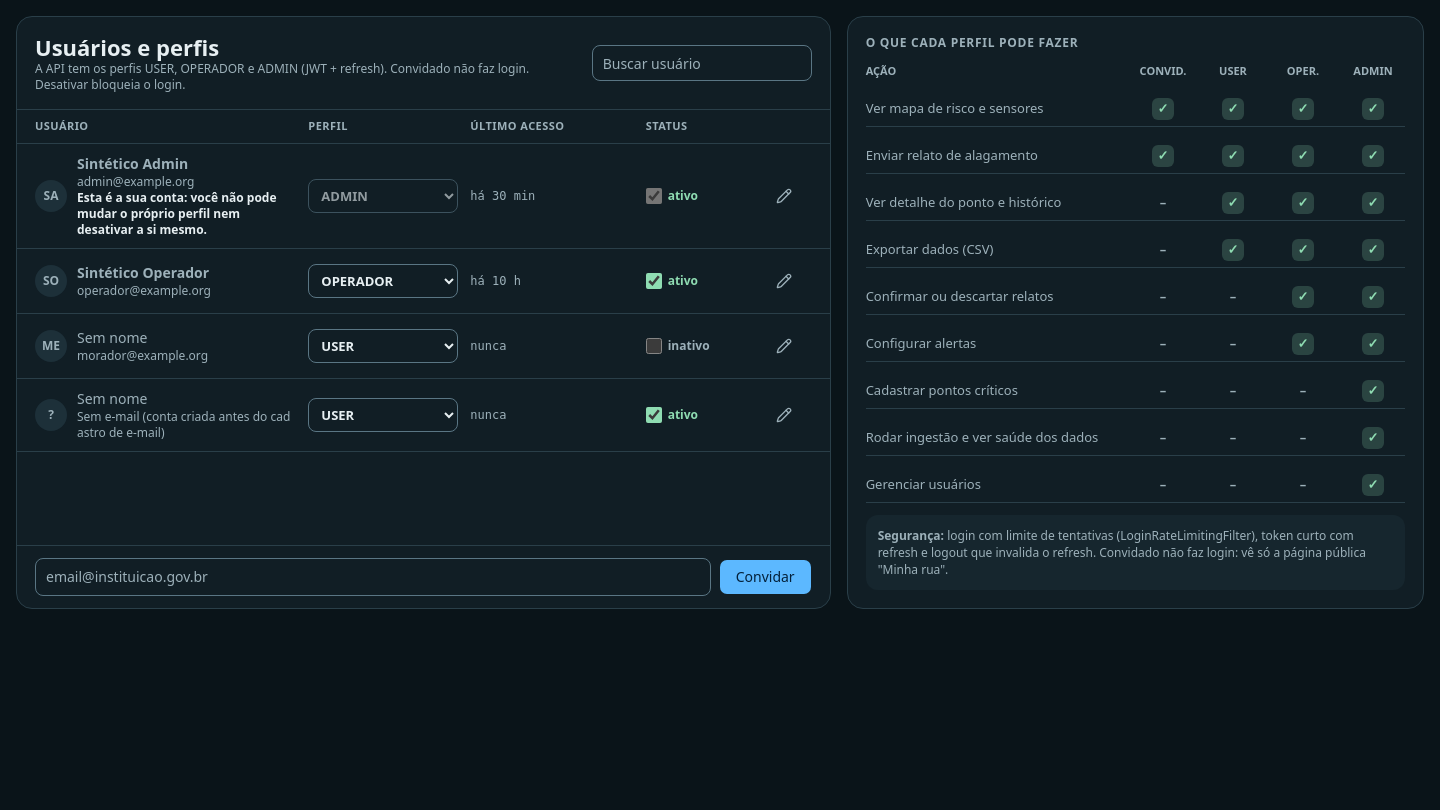
Test: AdminUsersPage › editar: só o que mudou; apagar o e-mail manda string vazia; e-mail inválido bloqueia
Click the button named "Editar Sintético Operador": (784, 280) [768, 264, 800, 296]
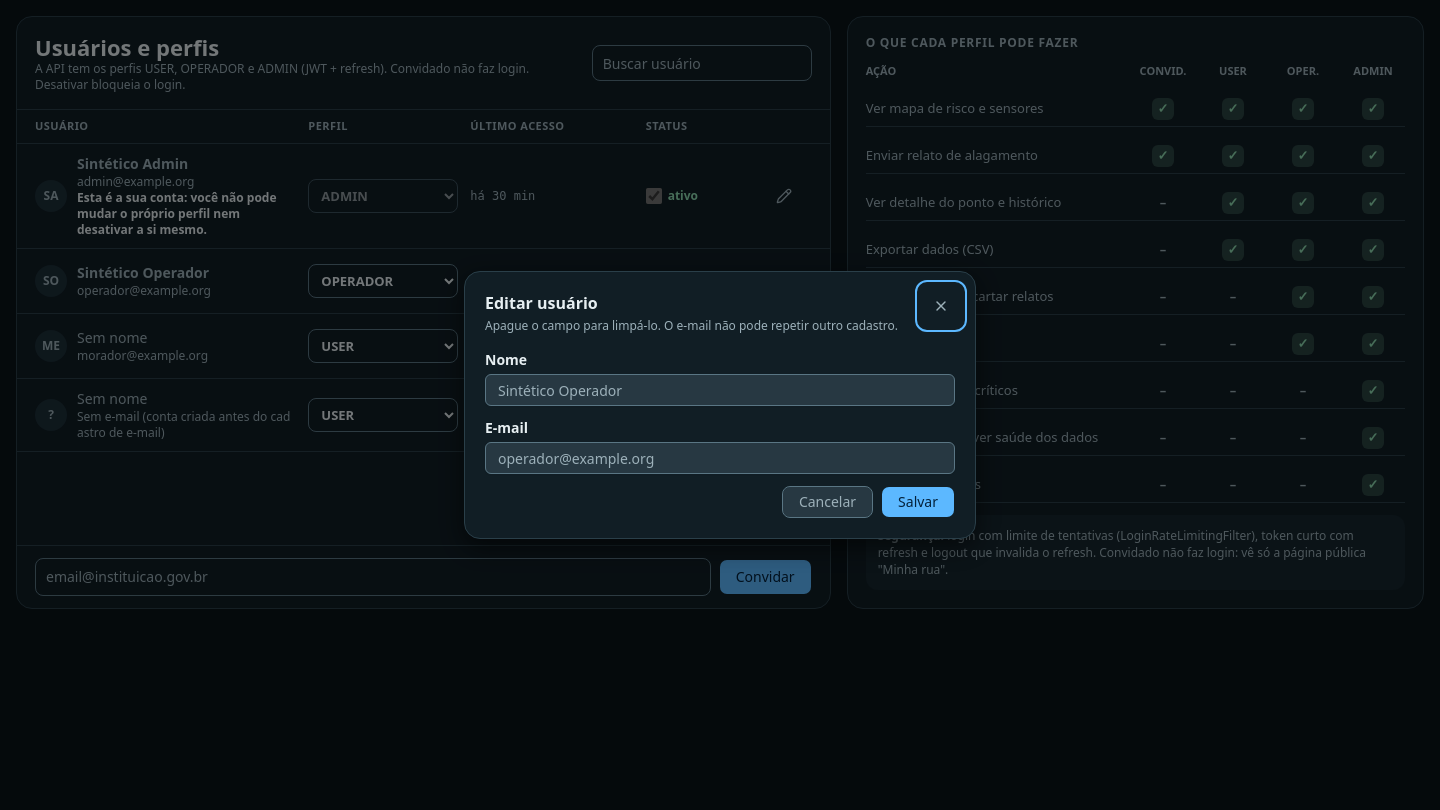
Click the button "Salvar": (918, 502) [881, 486, 955, 518]
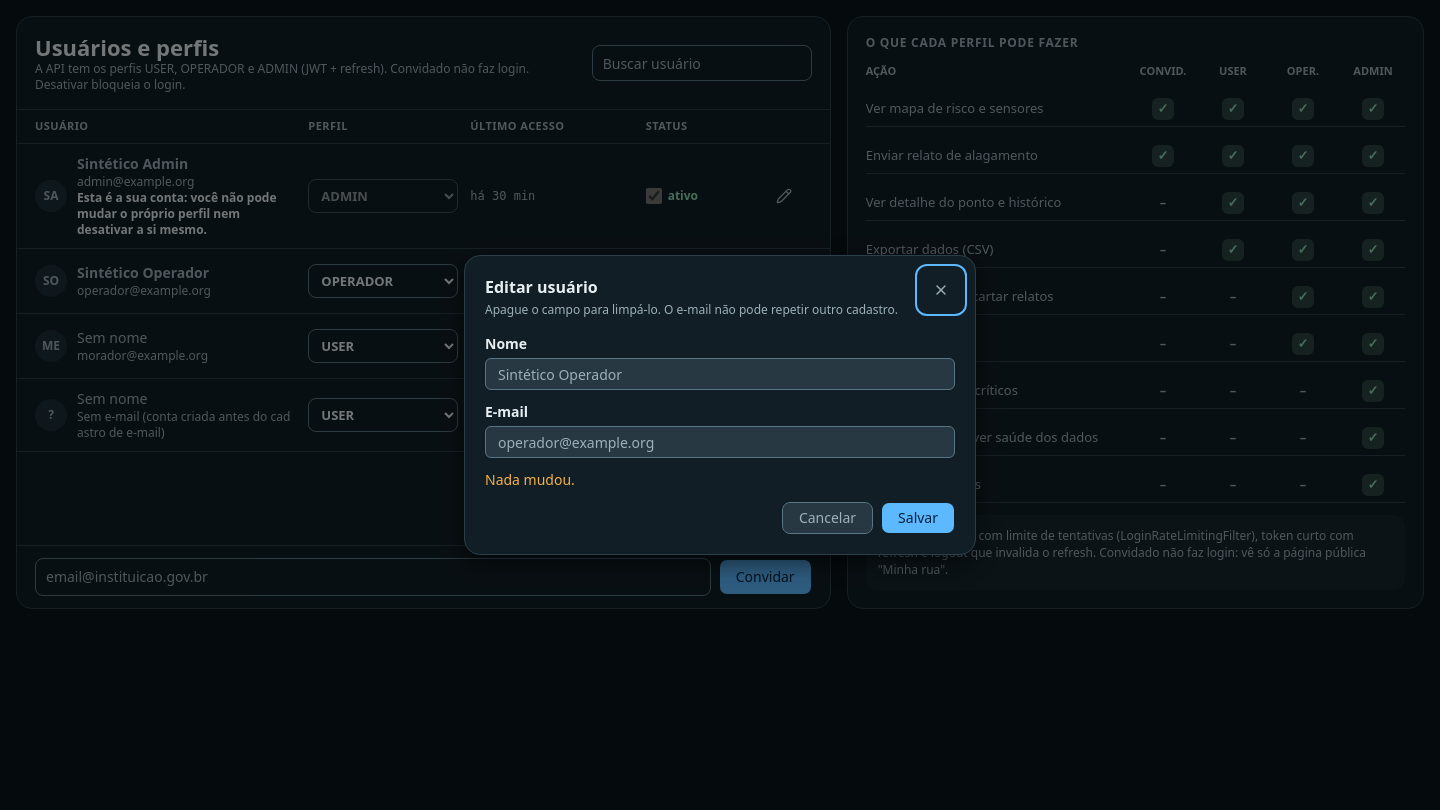
Expected: the text "Nada mudou." is shown, [485, 470, 575, 489]
Replace the text in the field labelled "E-mail" with "sem-arroba": (720, 442) [485, 426, 955, 458]
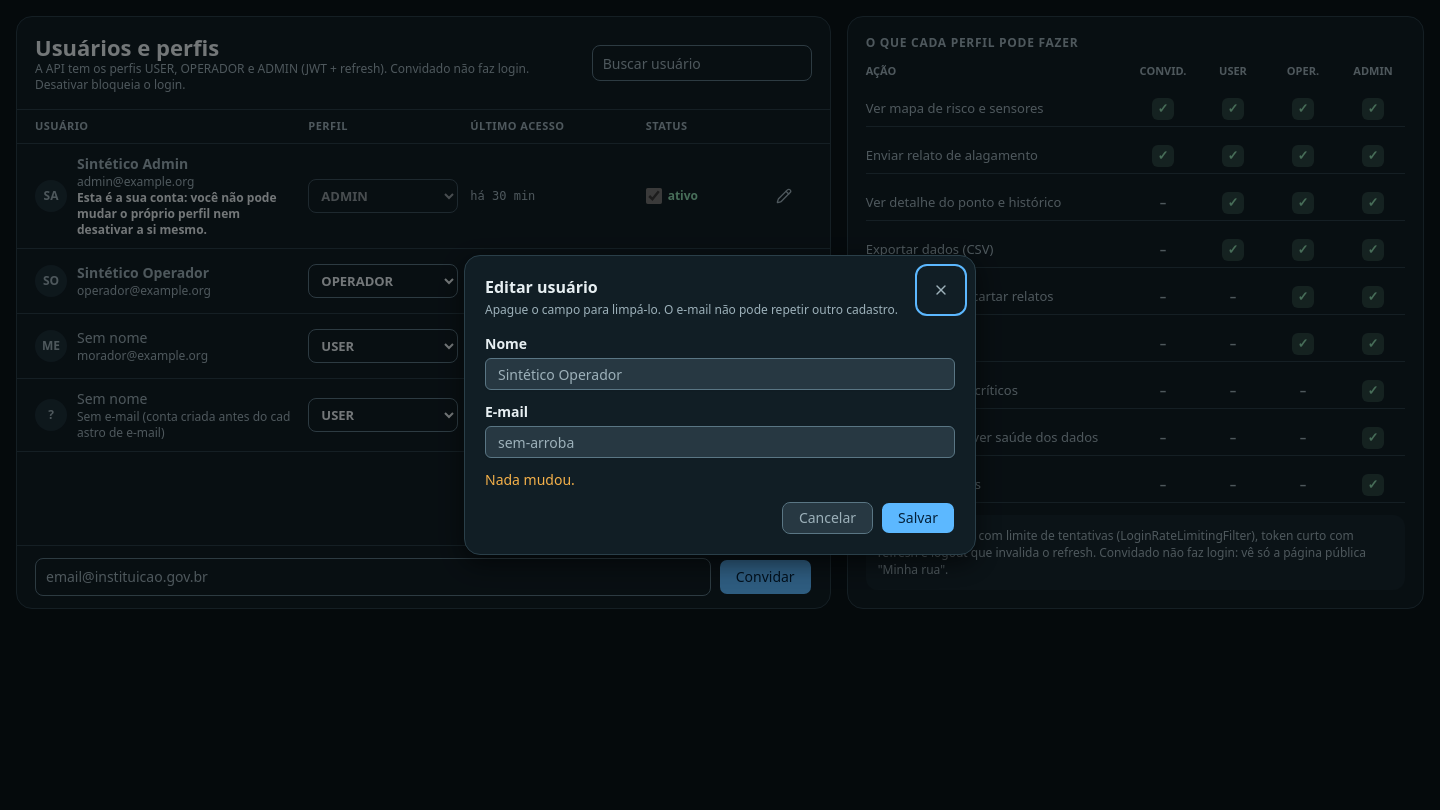
Click the button "Salvar": (918, 518) [881, 502, 955, 534]
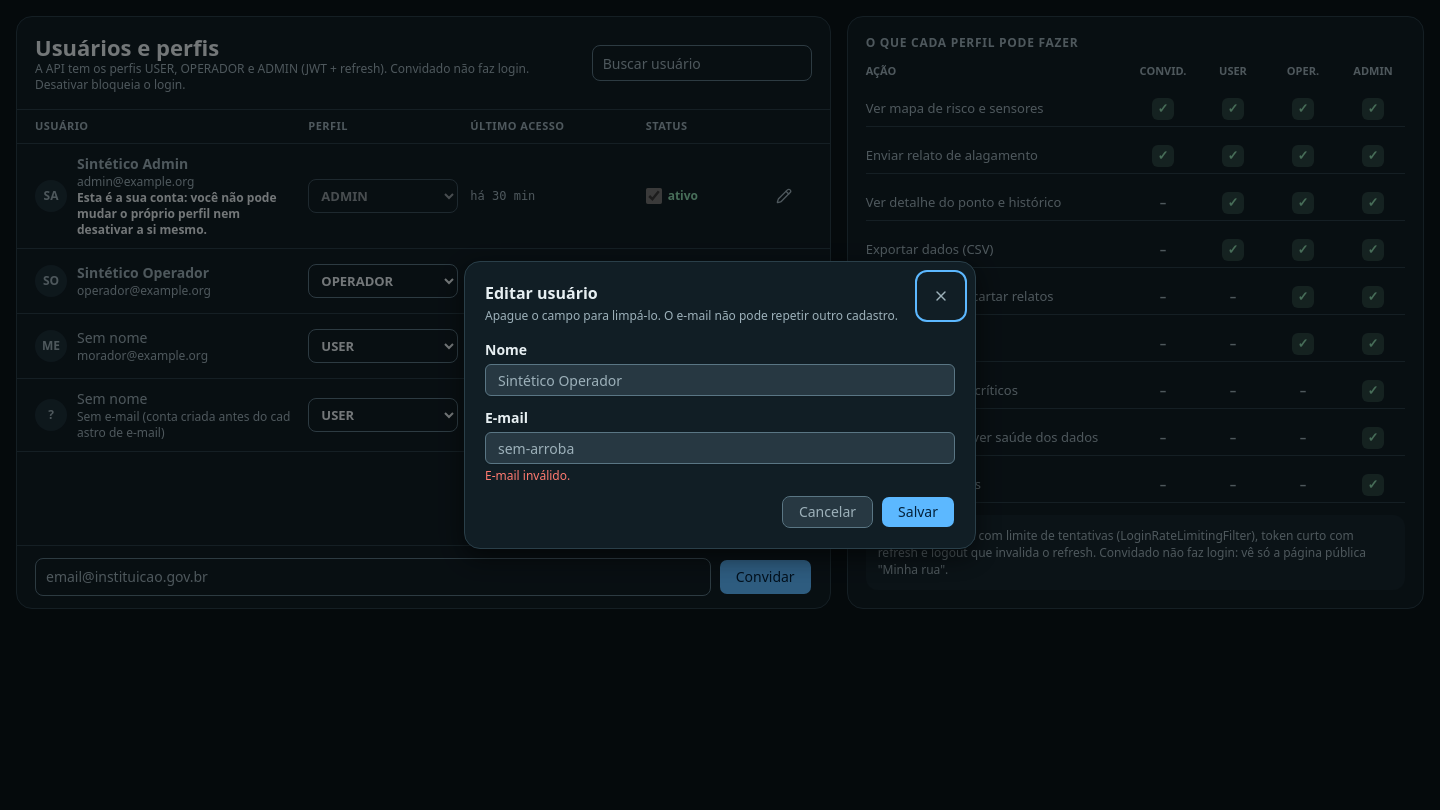
Expected: the text "E-mail inválido." is shown, [485, 467, 570, 484]
Clear the field labelled "E-mail": (720, 448) [485, 432, 955, 464]
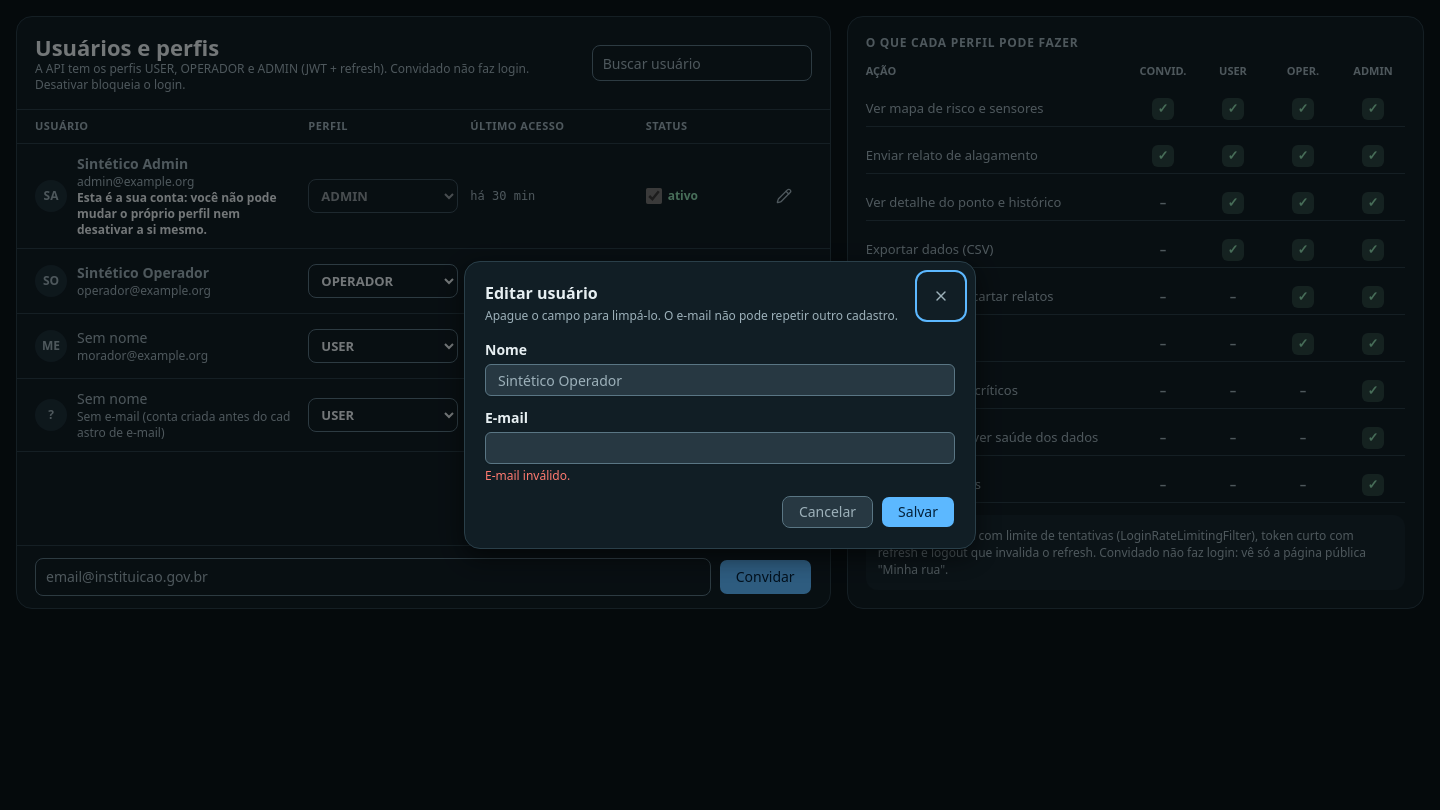
Click the button "Salvar": (918, 512) [881, 496, 955, 528]
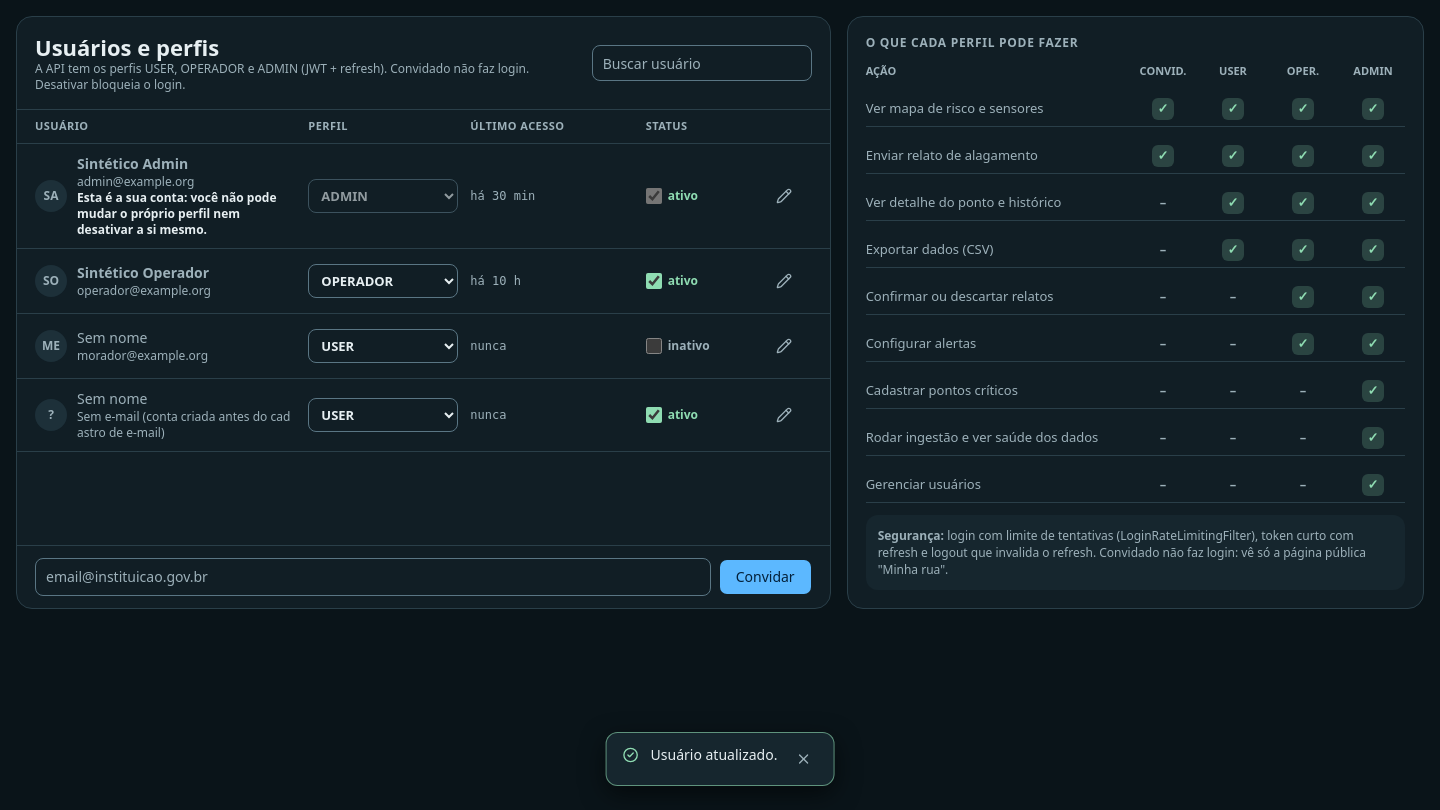
Expected: the text "Usuário atualizado." is shown, [651, 745, 778, 765]
